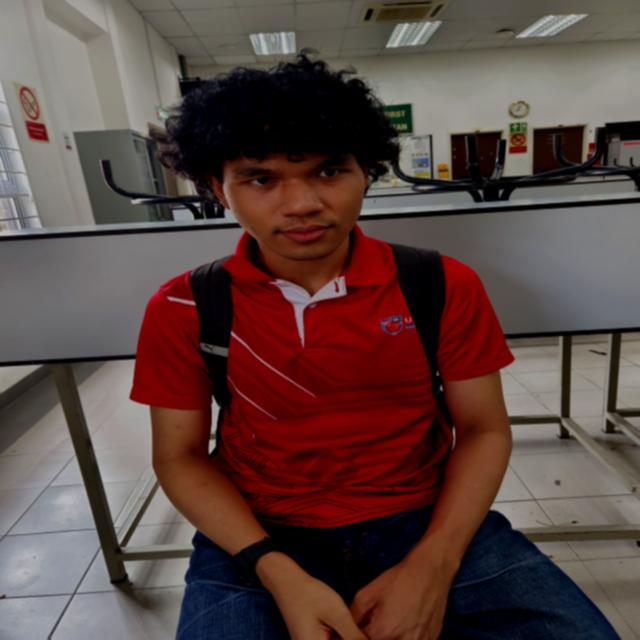person_without_labcoat: (131, 55, 619, 640)
